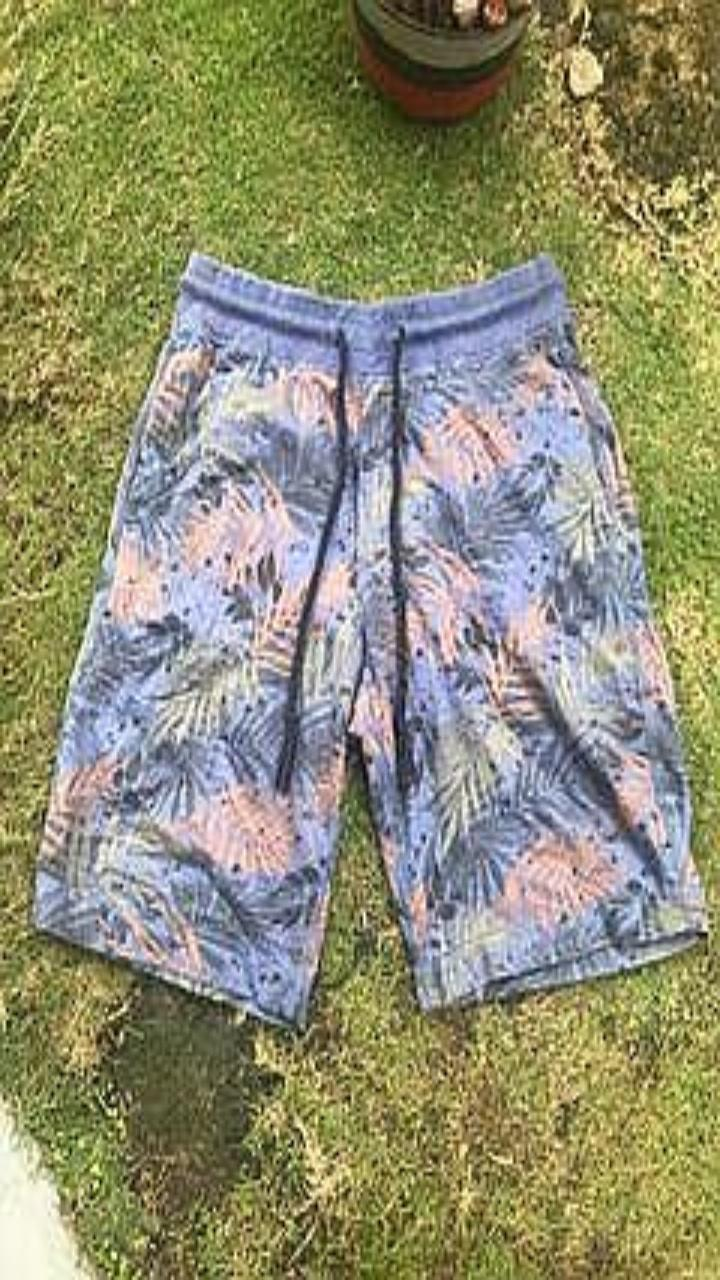Shorts: (34, 253, 707, 1028)
